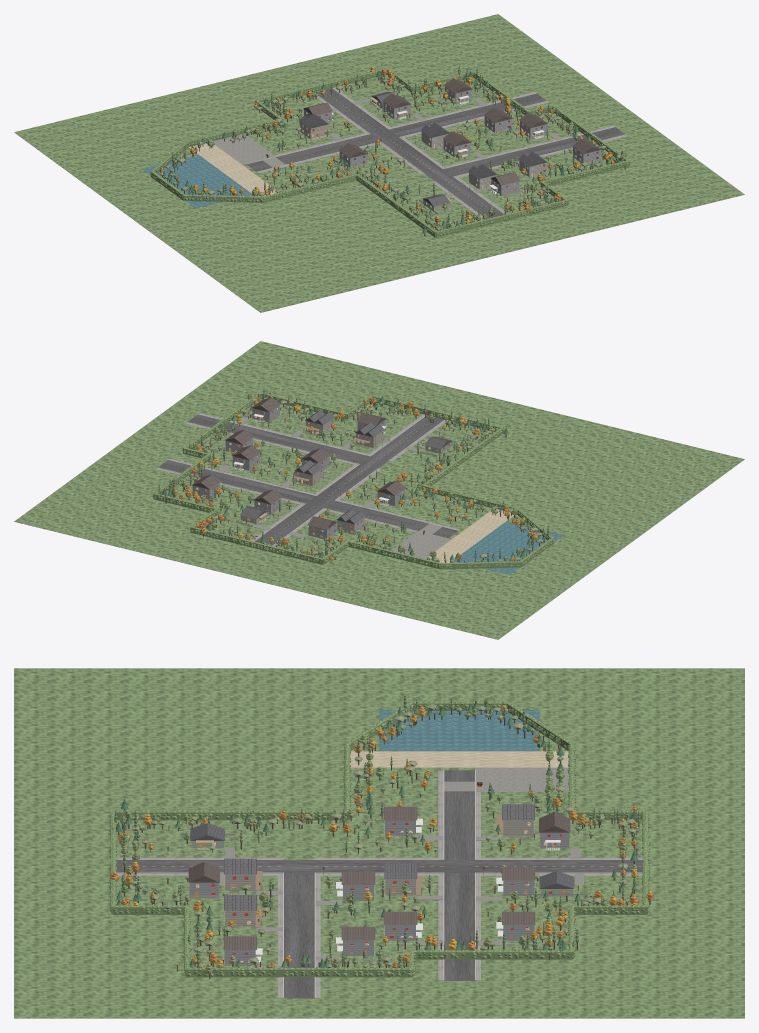
File: neighborhood.glb
3 renders of one model, top to bottom at view 1: azimuth 30°, elevation 25°; view 2: azimuth 150°, elevation 25°; view 3: azimuth 270°, elevation 25°, orthographic. The views are drawn at different scales.
Parts seen in each view (by area): view 1: ground-col, road_v_68-col, streets_curbs_sidewalks-col, road_h_58-col, lake_water_surface, road_h_52-col, lake_beach-col, lake_parking-col, house3_311_structure-col, house1_388_structure-col, house1_219_structure-col, house1_288_structure-col (+8 smaller); view 2: ground-col, road_v_68-col, streets_curbs_sidewalks-col, road_h_58-col, lake_water_surface, road_h_52-col, lake_beach-col, lake_parking-col, house3_148_structure-col, house3_265_structure-col, house1_288_structure-col, house1_196_structure-col (+6 smaller); view 3: ground-col, streets_curbs_sidewalks-col, road_h_58-col, road_v_68-col, lake_water_surface, road_h_52-col, lake_beach-col, lake_parking-col, house3_311_structure-col, house3_148_structure-col, house3_265_structure-col, house3_173_structure-col (+11 smaller).
Part boxes in pixels (<box>): ground-col: <box>14,14,744,312</box>; road_v_68-col: <box>315,88,503,218</box>; streets_curbs_sidewalks-col: <box>246,87,627,219</box>; road_h_58-col: <box>247,93,546,171</box>; lake_water_surface: <box>141,154,251,208</box>; road_h_52-col: <box>443,127,624,176</box>; lake_beach-col: <box>188,143,276,196</box>; lake_parking-col: <box>214,133,275,164</box>; house3_311_structure-col: <box>299,113,328,140</box>; house1_388_structure-col: <box>489,172,520,195</box>; house1_219_structure-col: <box>382,93,411,119</box>; house1_288_structure-col: <box>484,108,512,133</box>; ground-col: <box>14,341,744,639</box>; road_v_68-col: <box>255,415,443,545</box>; streets_curbs_sidewalks-col: <box>156,413,459,546</box>; road_h_58-col: <box>158,460,457,538</box>; lake_water_surface: <box>453,521,563,574</box>; road_h_52-col: <box>188,414,369,463</box>; lake_beach-col: <box>425,509,513,562</box>; lake_parking-col: <box>391,531,451,558</box>; house3_148_structure-col: <box>353,422,384,448</box>; house3_265_structure-col: <box>292,460,323,486</box>; house1_288_structure-col: <box>232,445,260,470</box>; house1_196_structure-col: <box>252,397,280,422</box>; ground-col: <box>14,668,744,1018</box>; streets_curbs_sidewalks-col: <box>117,770,642,998</box>; road_h_58-col: <box>444,770,474,980</box>; road_v_68-col: <box>116,860,643,872</box>; lake_water_surface: <box>379,710,539,751</box>; road_h_52-col: <box>284,873,314,998</box>; lake_beach-col: <box>350,751,568,767</box>; lake_parking-col: <box>475,767,569,791</box>; house3_311_structure-col: <box>496,804,534,836</box>; house3_148_structure-col: <box>224,858,262,890</box>; house3_265_structure-col: <box>384,863,422,895</box>; house3_173_structure-col: <box>224,895,262,927</box>.
Bounding box in the file's own units: 258 × 10.9 × 228.
Materials: 332 (53 with a texture image).
